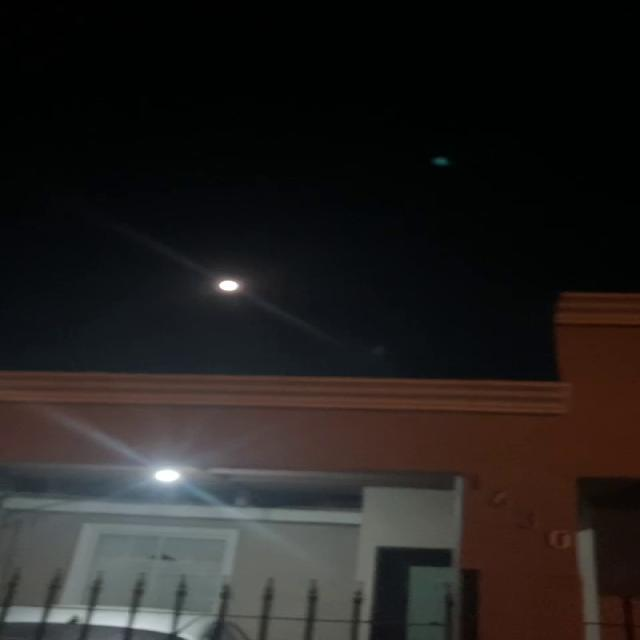moon: (202, 268, 254, 299)
